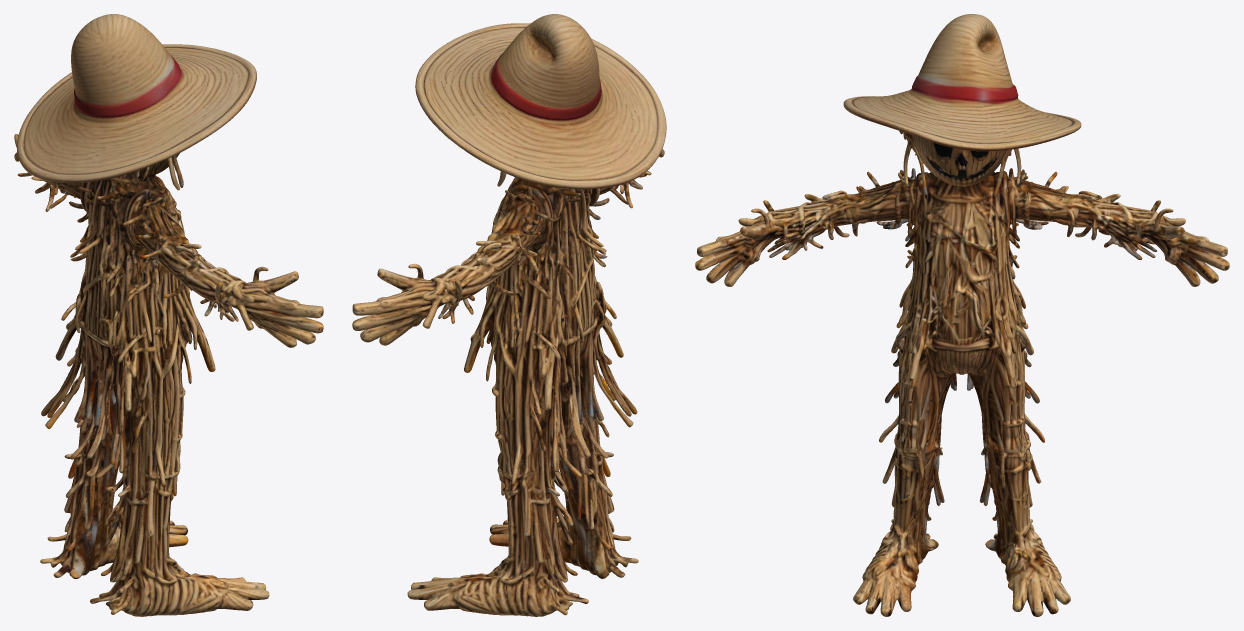
File: Scarecrow.fbx
3 renders of one model, left to right at view 1: azimuth 30°, elevation 25°; view 2: azimuth 150°, elevation 25°; view 3: azimuth 270°, elevation 25°, orthographic. The views are drawn at different scales.
Parts seen in each view (by area): view 1: tripo_node_32d78309; view 2: tripo_node_32d78309; view 3: tripo_node_32d78309.
Part boxes in pixels (bbox=[...]): tripo_node_32d78309: bbox=[14, 14, 323, 616]; tripo_node_32d78309: bbox=[352, 14, 666, 616]; tripo_node_32d78309: bbox=[695, 14, 1229, 616].
Size of the model in its own units: 39.17 by 100 by 87.59.
1 material, 1 textured.
